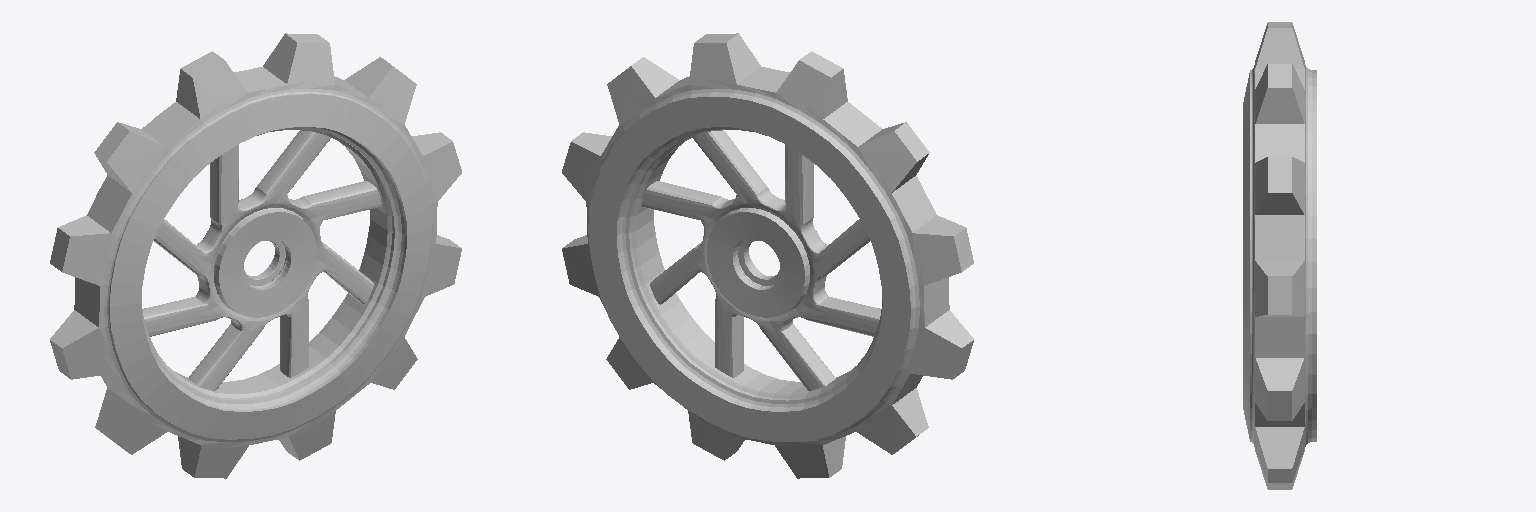
Rendered from gear3.obj.
3 views of the same model, side by side, from view 1: azimuth 30°, elevation 25°; view 2: azimuth 150°, elevation 25°; view 3: azimuth 270°, elevation 25° (orthographic).
Parts seen in each view (by area): view 1: Cylinder.015_Cylinder.030; view 2: Cylinder.015_Cylinder.030; view 3: Cylinder.015_Cylinder.030.
Boxes of the visible parts, box(x1,y1,x2,y2) form: Cylinder.015_Cylinder.030: box(50, 33, 461, 478); Cylinder.015_Cylinder.030: box(562, 33, 973, 478); Cylinder.015_Cylinder.030: box(1243, 22, 1316, 489).
Bounding box in the file's own units: 2.24 × 2.24 × 0.356.